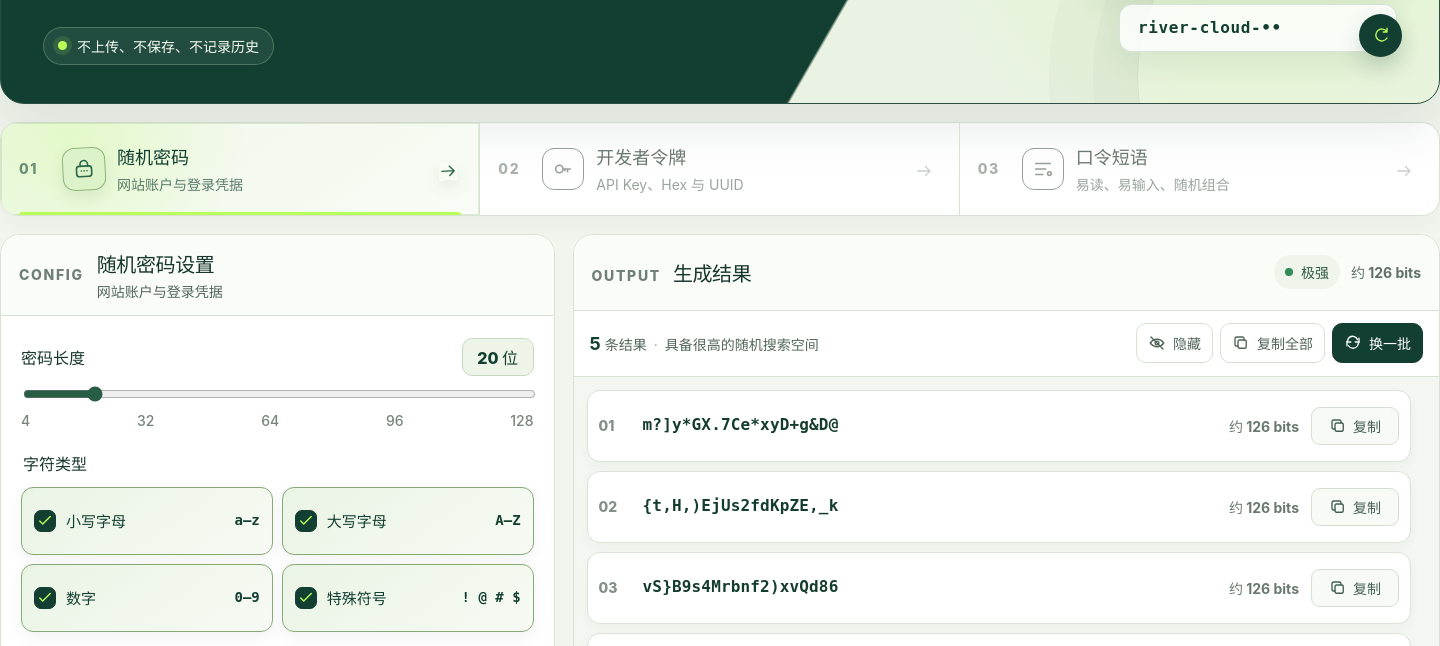
Scenario: PasswordGeneratorTool › supports Chinese passphrases and changes the generated batch size
Click the button "03 口令短语 易读、易输入、随机组合": click(1043, 169) [960,123,1439,215]
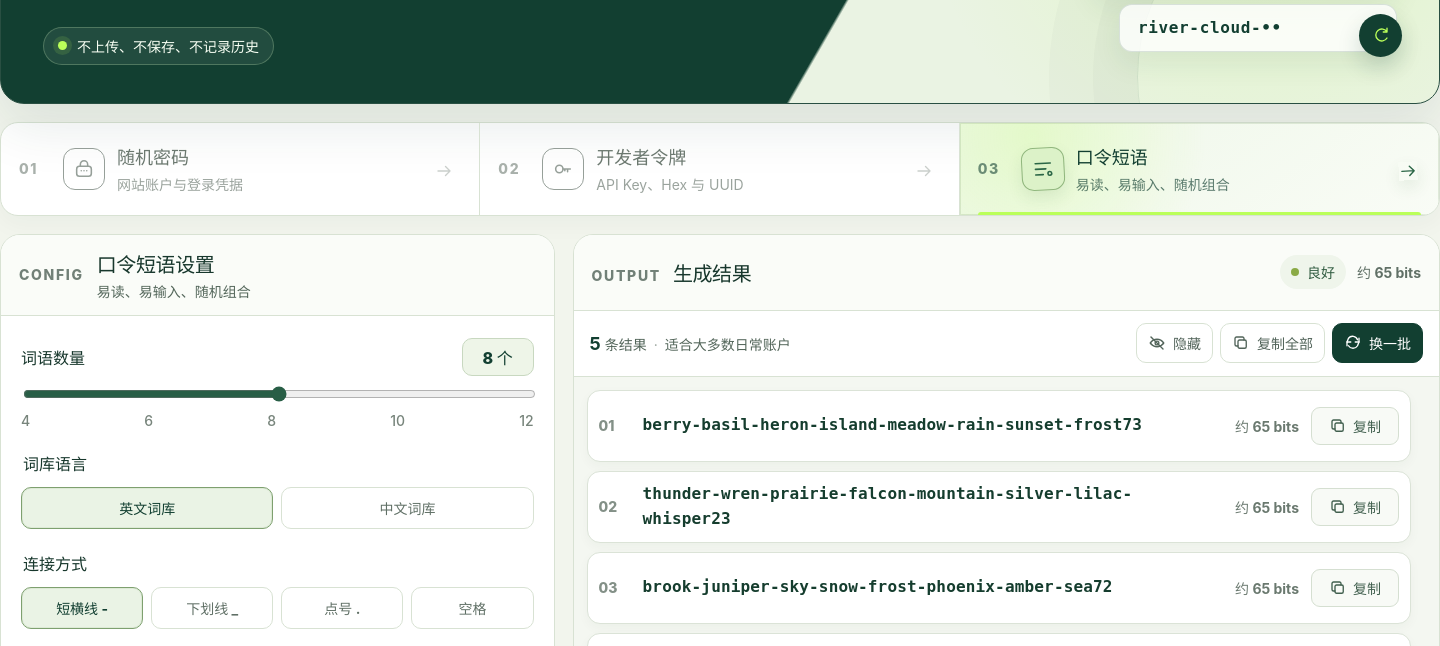
Click the button "中文词库": click(407, 508) [281,487,534,529]
(page scrolled)
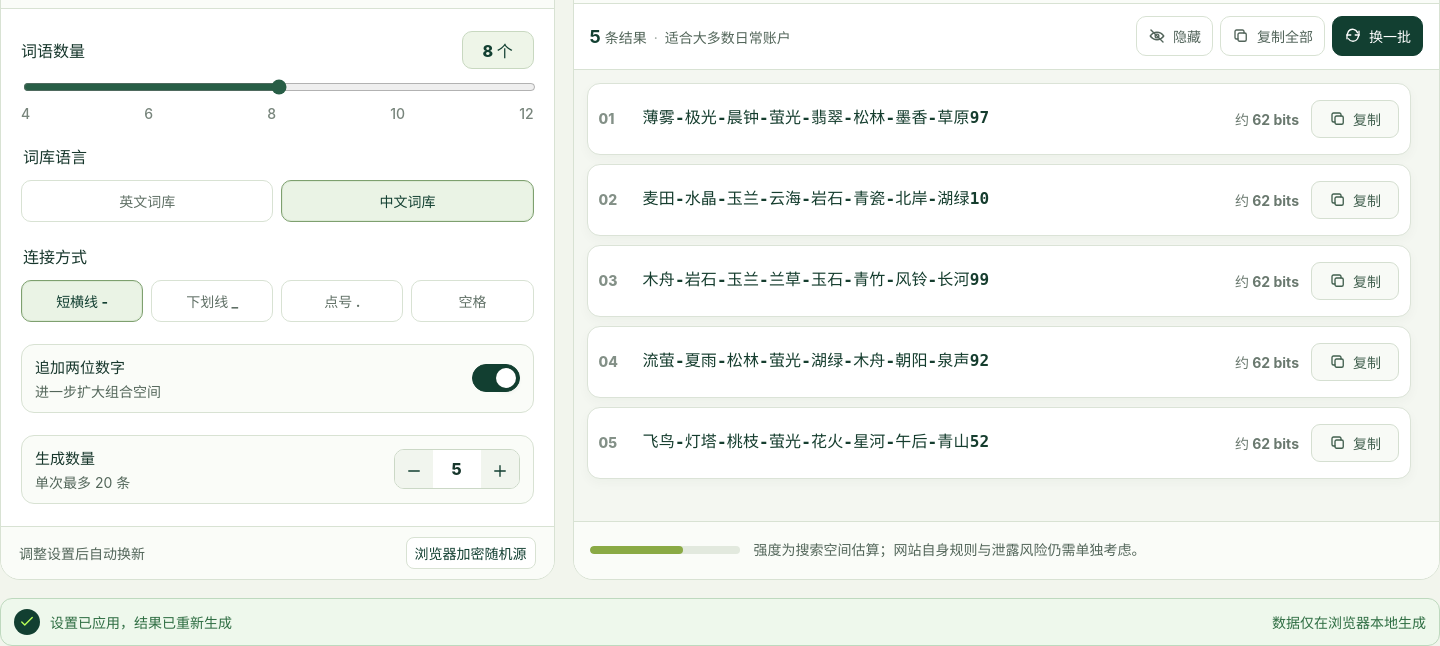
Click the button named "减少生成数量": click(414, 469) [395,450,433,488]
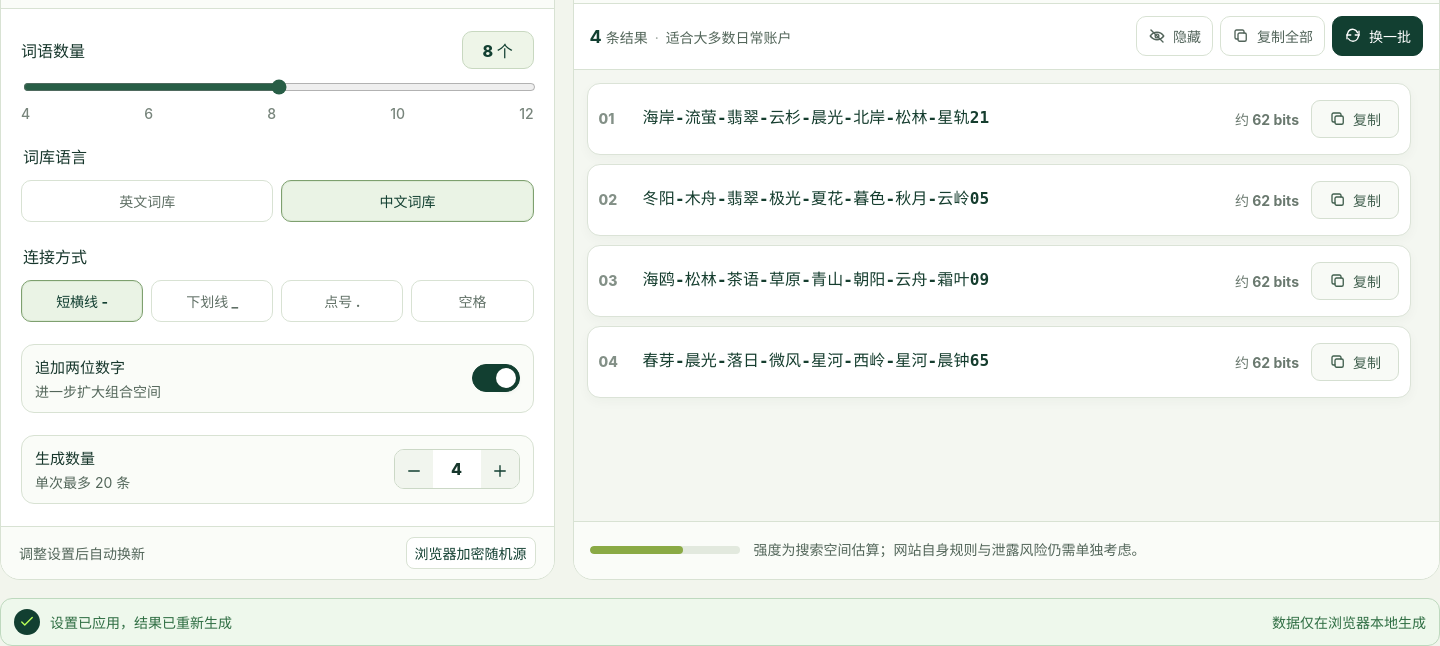
Now the text "海岸-流萤-翡翠-云杉-晨光-北岸-松林-星轨21" is shown, box [643,108,989,127]
